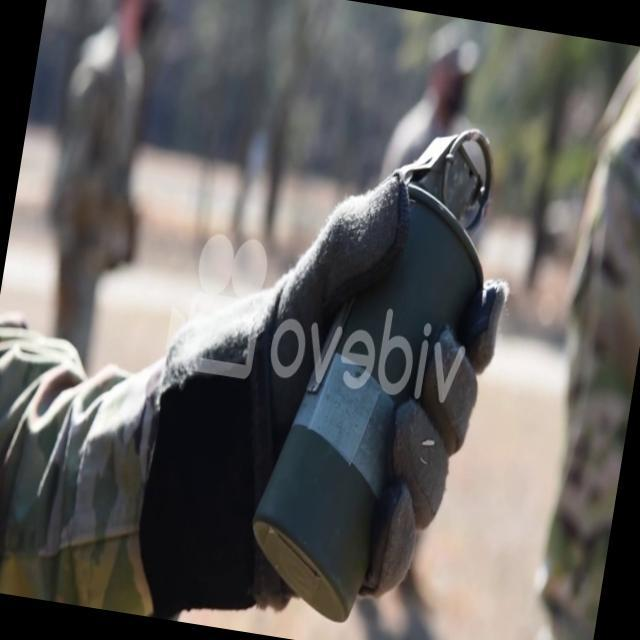grenade: (234, 96, 527, 637)
